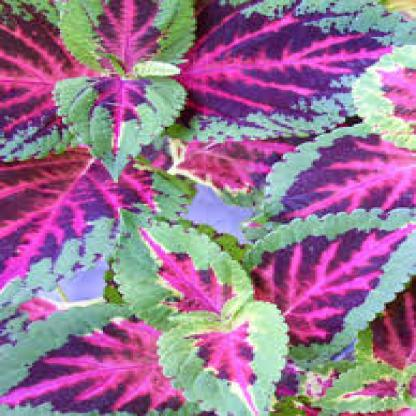Bunga Coleus: (20, 9, 387, 403)
